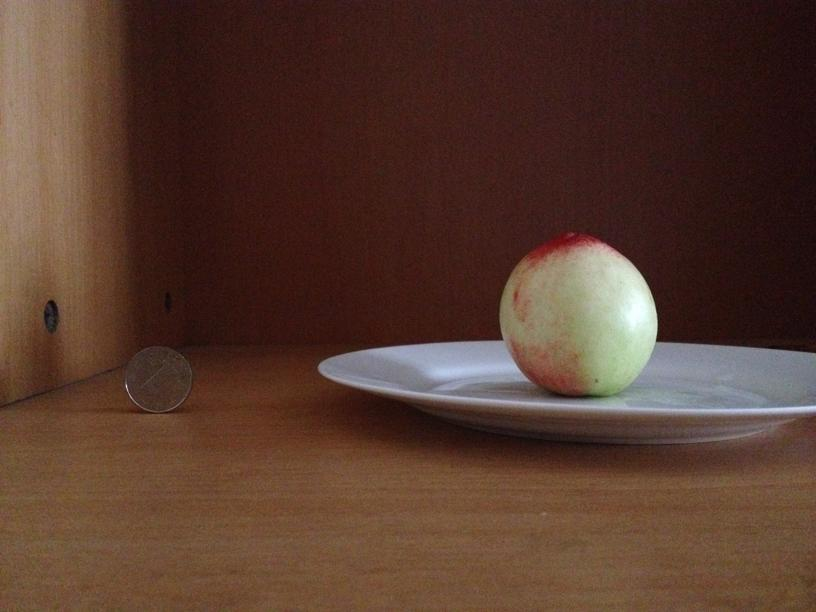coin: (120, 344, 192, 411)
peach: (499, 228, 660, 397)
